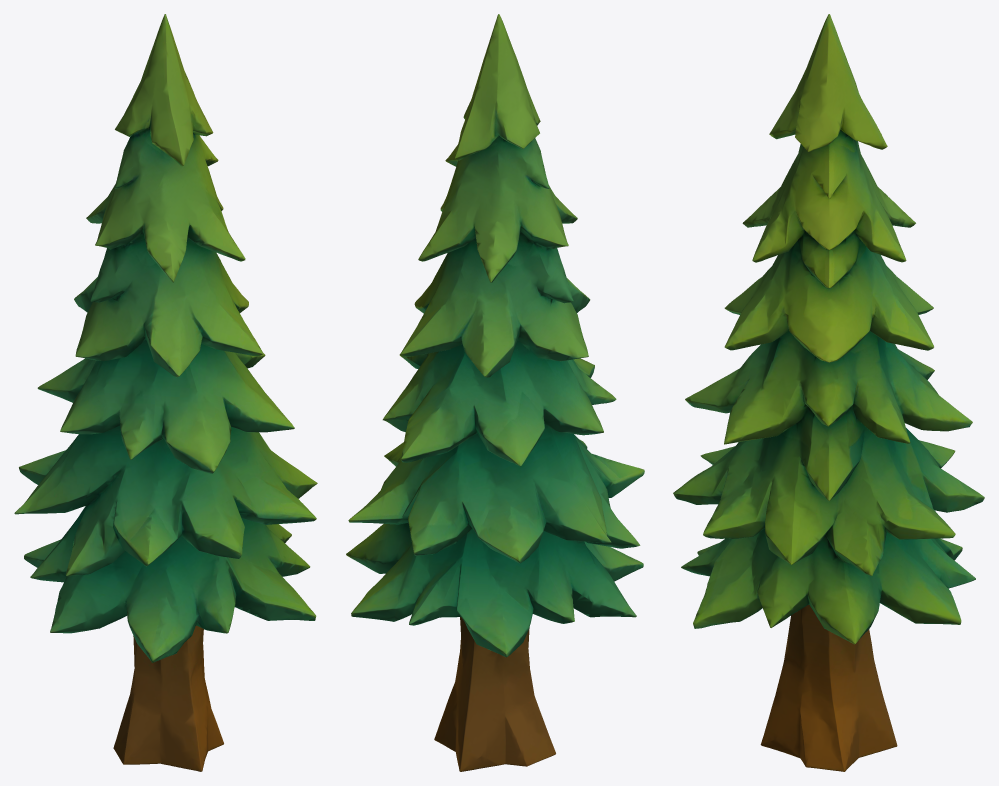
Rendered from tree_pine_large.glb.
3 renders of one model, left to right at view 1: azimuth 30°, elevation 25°; view 2: azimuth 150°, elevation 25°; view 3: azimuth 270°, elevation 25°, orthographic.
Visible parts, largest first — view 1: tripo_node_3e205cab-2046-4f8d-a455-34f1262fb705; view 2: tripo_node_3e205cab-2046-4f8d-a455-34f1262fb705; view 3: tripo_node_3e205cab-2046-4f8d-a455-34f1262fb705.
Boxes of the visible parts, x1=… form: tripo_node_3e205cab-2046-4f8d-a455-34f1262fb705: x1=14, y1=14, x2=317, y2=771; tripo_node_3e205cab-2046-4f8d-a455-34f1262fb705: x1=346, y1=14, x2=644, y2=771; tripo_node_3e205cab-2046-4f8d-a455-34f1262fb705: x1=673, y1=14, x2=984, y2=771.
Bounding box in the file's own units: 0.3869 × 1 × 0.3866.
1 material, 1 textured.
